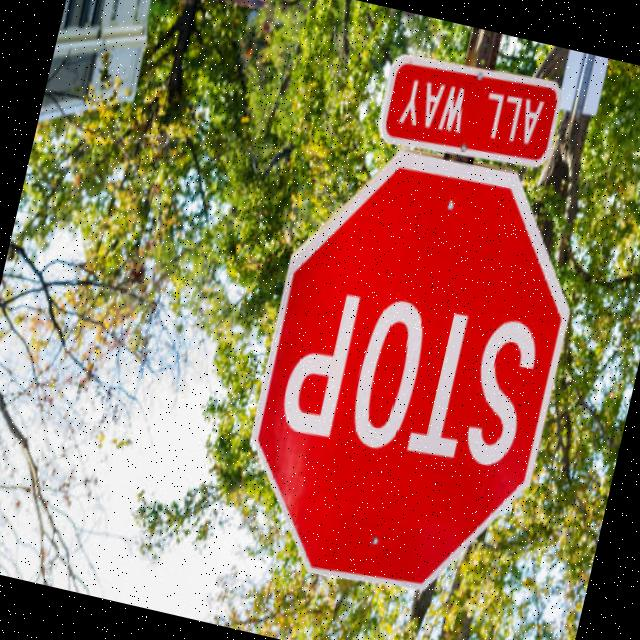stop: (218, 124, 604, 618)
